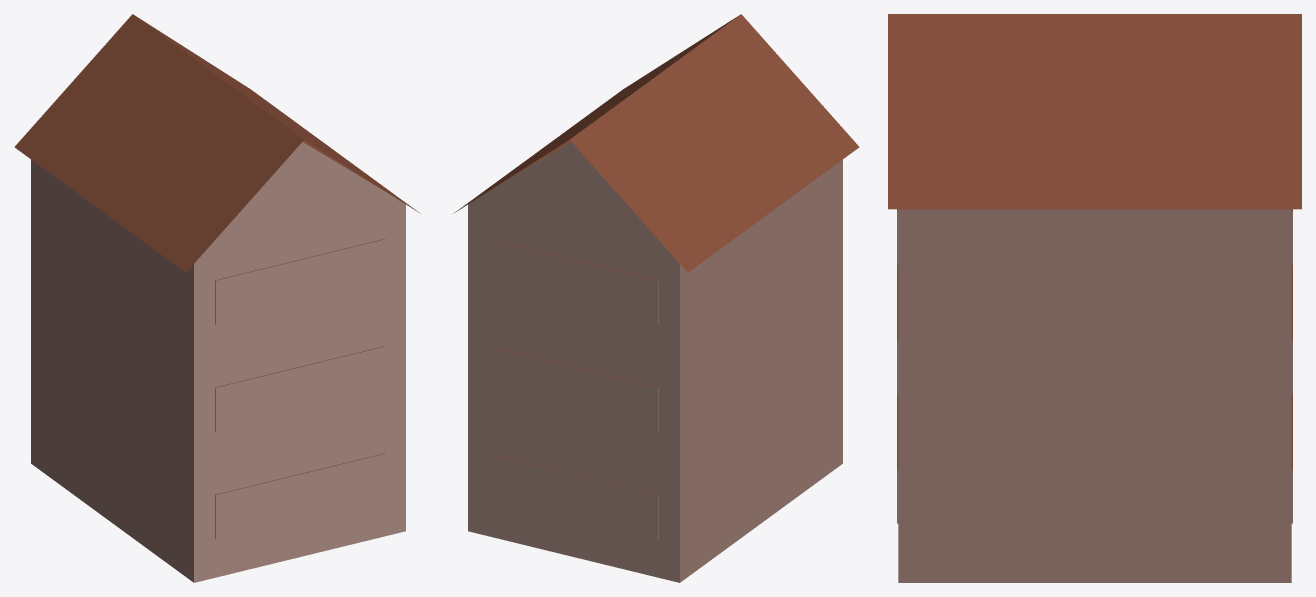
File: cove-house-salmon.far-facades-v1.lod2.glb
3 renders of one model, left to right at view 1: azimuth 30°, elevation 25°; view 2: azimuth 150°, elevation 25°; view 3: azimuth 270°, elevation 25°, orthographic. The views are drawn at different scales.
Visible parts, largest first — view 1: cove-house-salmon; view 2: cove-house-salmon; view 3: cove-house-salmon.
Boxes of the visible parts, left/top/right/bottom form: cove-house-salmon: left=14, top=14, right=420, bottom=582; cove-house-salmon: left=453, top=14, right=859, bottom=582; cove-house-salmon: left=888, top=14, right=1301, bottom=582.
Size of the model in its own units: 6.7 by 11.38 by 8.42.
